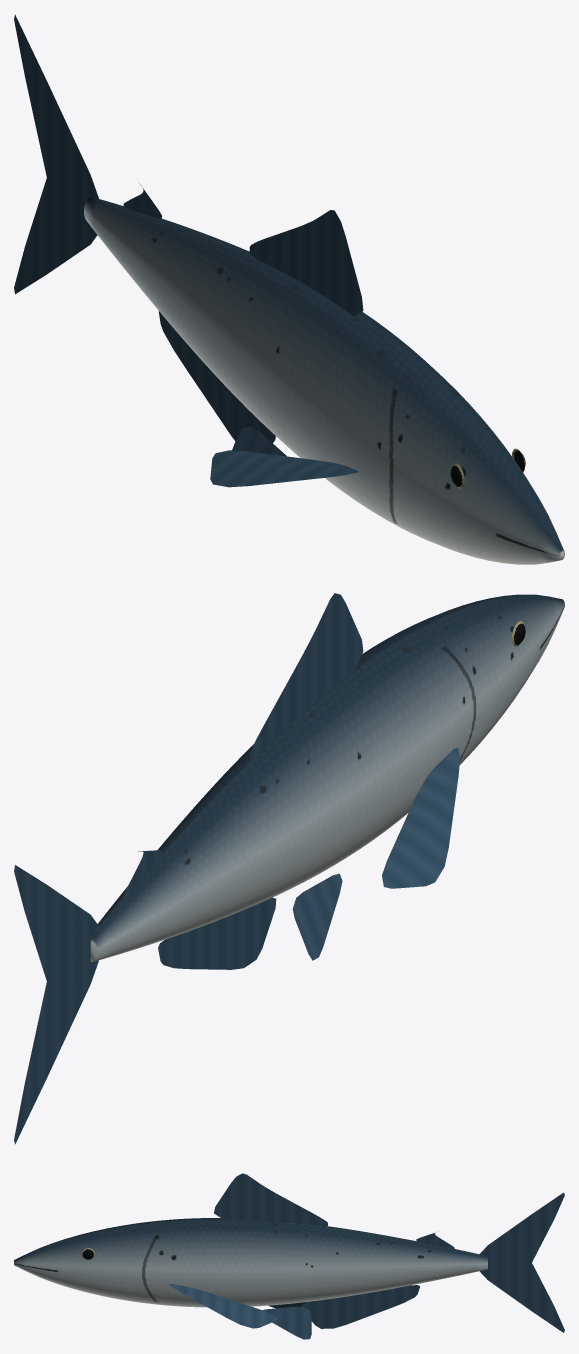
Rendered from salmon.glb.
3 views of the same model, one above another, from view 1: azimuth 30°, elevation 25°; view 2: azimuth 150°, elevation 25°; view 3: azimuth 270°, elevation 25° (orthographic). The views are drawn at different scales.
Visible parts, largest first — view 1: salmon_lod0; view 2: salmon_lod0; view 3: salmon_lod0.
Part boxes in pixels (x1,y1,x2,y2): salmon_lod0: [14, 14, 564, 564]; salmon_lod0: [14, 593, 564, 1144]; salmon_lod0: [14, 1173, 564, 1339].
Size of what is drawn, in the model's own units: 0.1403 by 0.192 by 0.6.
Materials: 1 (1 with a texture image).
